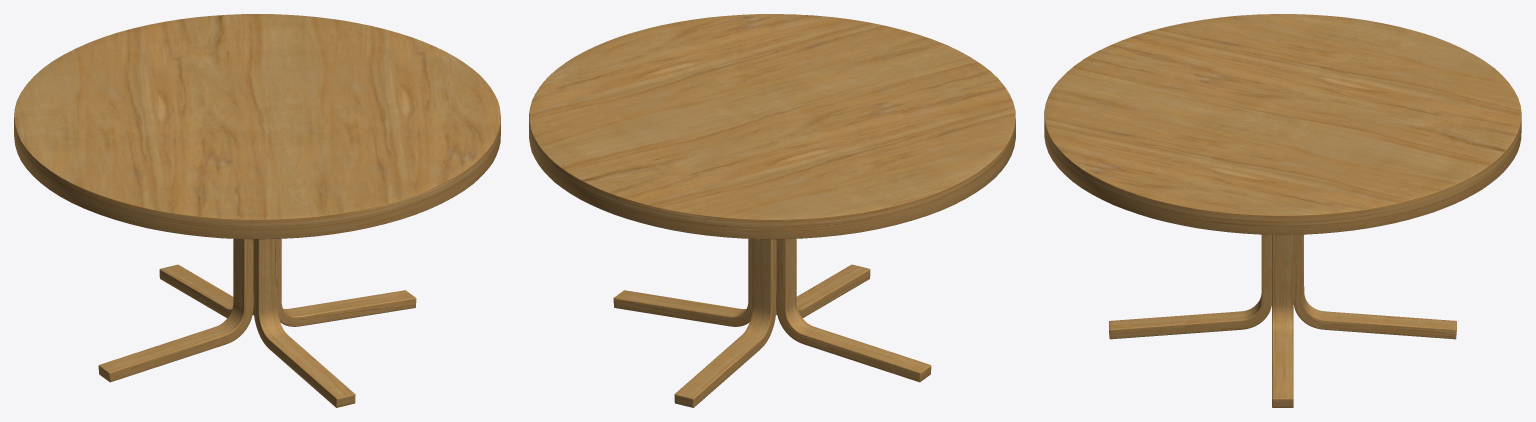
Rendered from stul_03.gltf.
3 views of the same model, side by side, from view 1: azimuth 30°, elevation 25°; view 2: azimuth 150°, elevation 25°; view 3: azimuth 270°, elevation 25° (orthographic).
Visible parts, largest first — view 1: object_29.001, object_9.003, object_8.003, object_11.003, object_10.003; view 2: object_29.001, object_9.003, object_10.003, object_11.003, object_8.003; view 3: object_29.001, object_10.003, object_8.003, object_11.003.
Part boxes in pixels (x1=…): object_29.001: x1=14, y1=14, x2=500, y2=239; object_9.003: x1=98, y1=239, x2=253, y2=382; object_8.003: x1=253, y1=239, x2=355, y2=407; object_11.003: x1=277, y1=238, x2=416, y2=326; object_10.003: x1=159, y1=264, x2=253, y2=318; object_29.001: x1=529, y1=14, x2=1015, y2=239; object_9.003: x1=776, y1=238, x2=931, y2=382; object_10.003: x1=674, y1=239, x2=776, y2=407; object_11.003: x1=613, y1=238, x2=752, y2=326; object_8.003: x1=776, y1=264, x2=870, y2=318; object_29.001: x1=1044, y1=14, x2=1521, y2=234; object_10.003: x1=1293, y1=234, x2=1456, y2=339; object_8.003: x1=1109, y1=234, x2=1271, y2=339; object_11.003: x1=1272, y1=235, x2=1293, y2=407.
Size of the model in its own units: 1.1 by 0.5598 by 1.1.
Materials: 3 (2 with a texture image).
